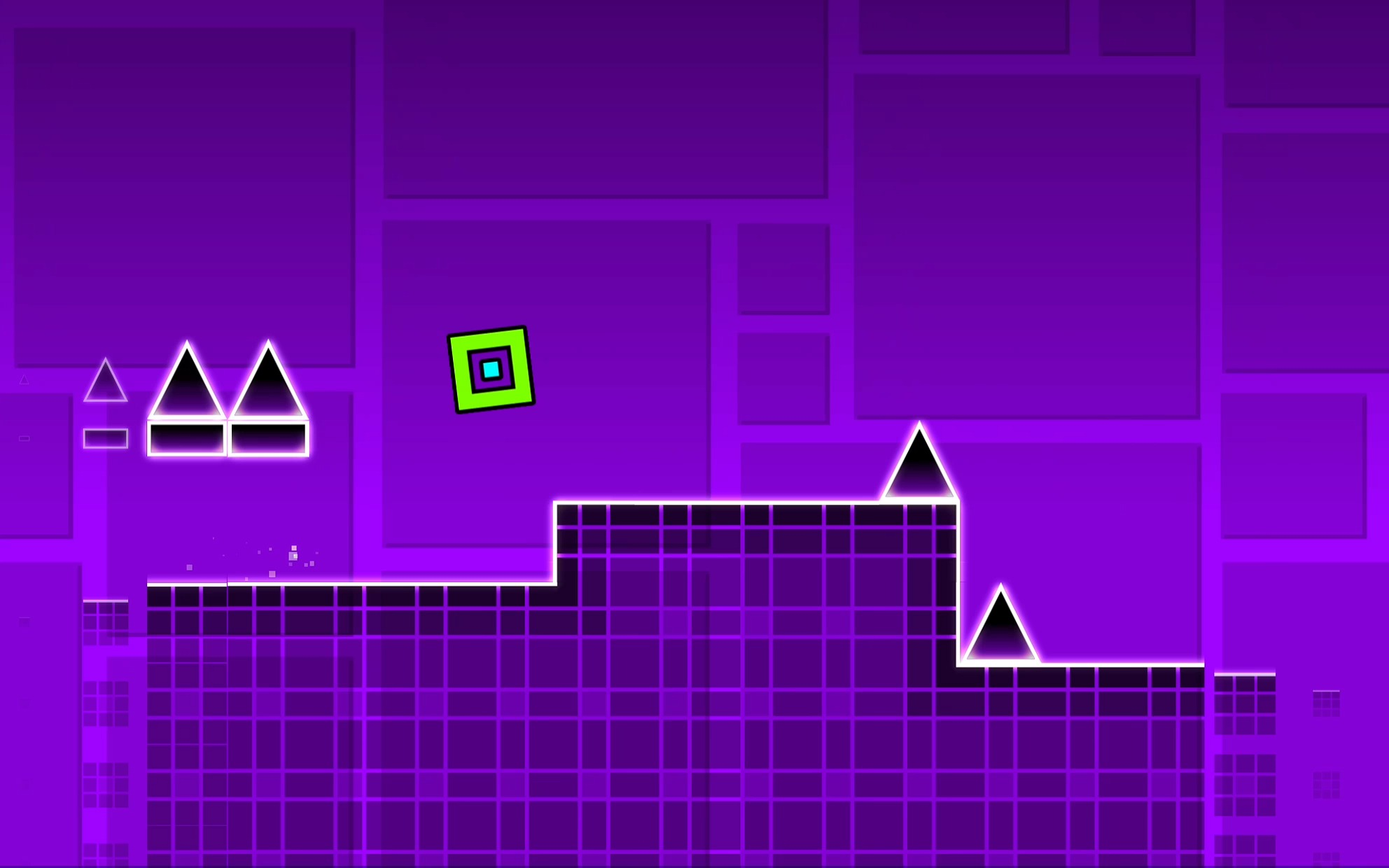Block2: (150, 585, 961, 868), (965, 655, 1285, 866), (552, 497, 958, 583)
Block3: (147, 419, 225, 456), (230, 421, 308, 457), (151, 421, 230, 456)
Player: (447, 327, 534, 413)
Spike: (963, 584, 1039, 664), (882, 424, 958, 502), (231, 342, 307, 419), (152, 343, 225, 417), (85, 360, 128, 401)
